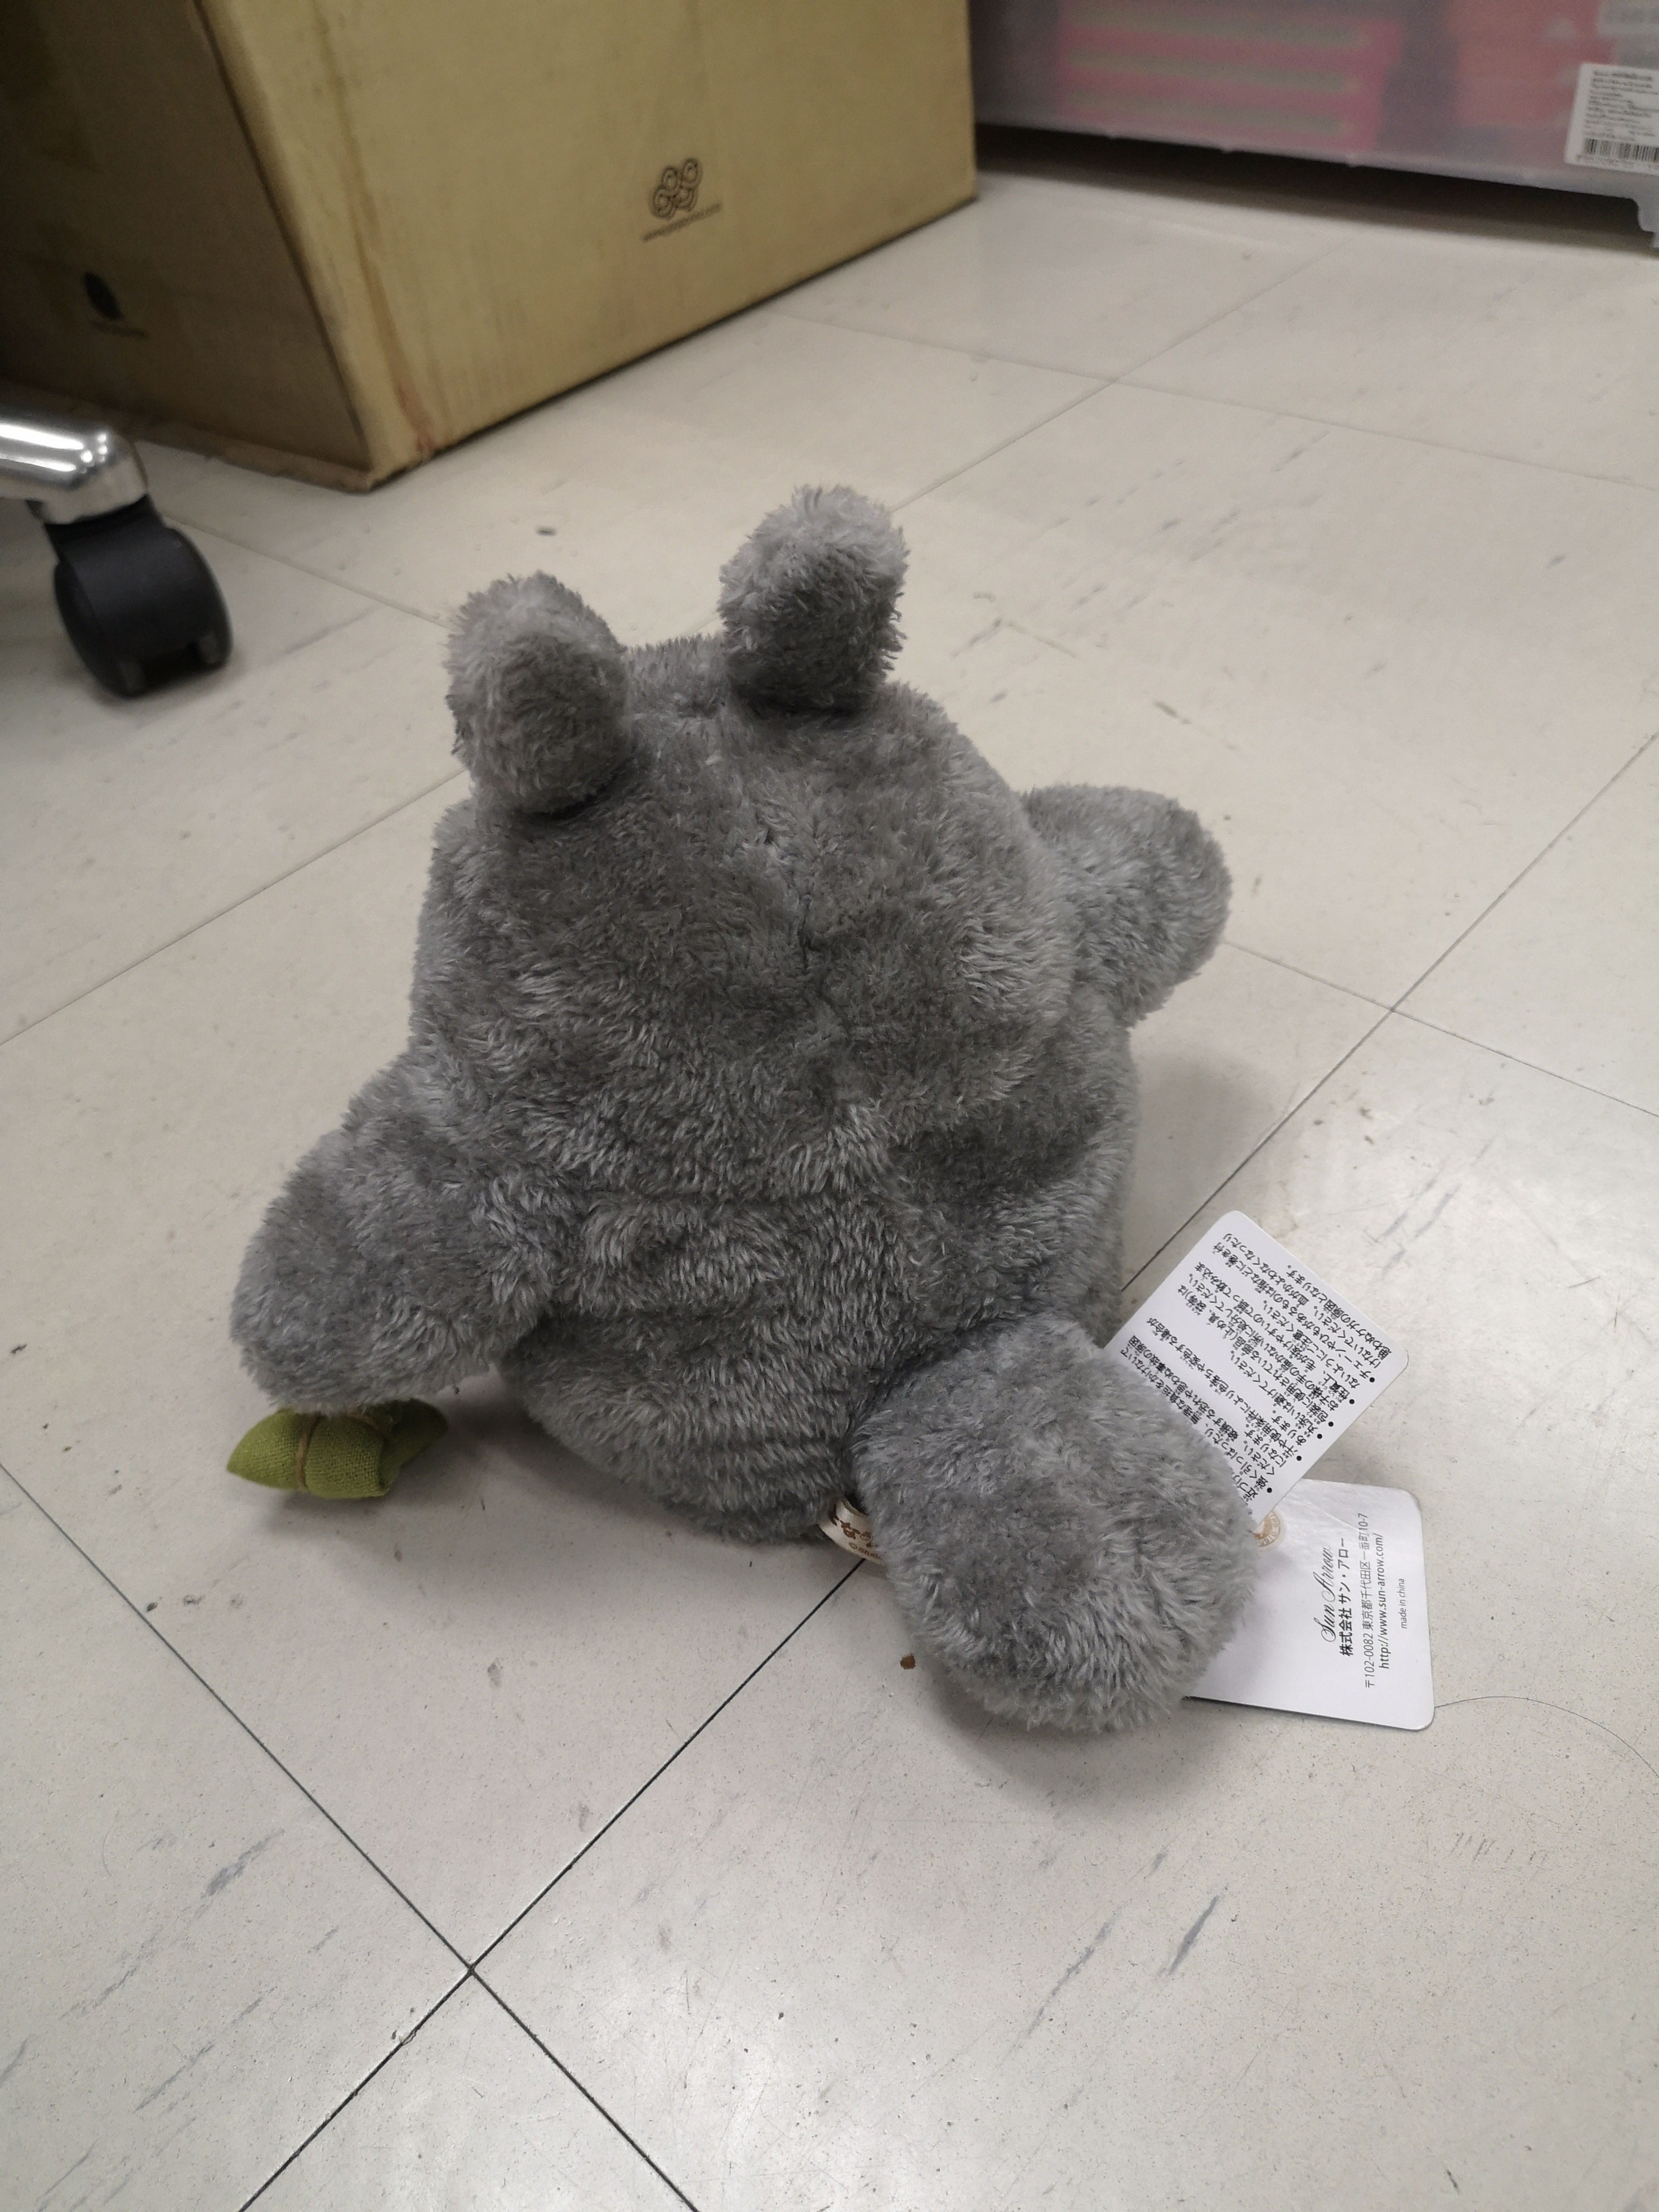totoro: (218, 479, 1277, 1747)
